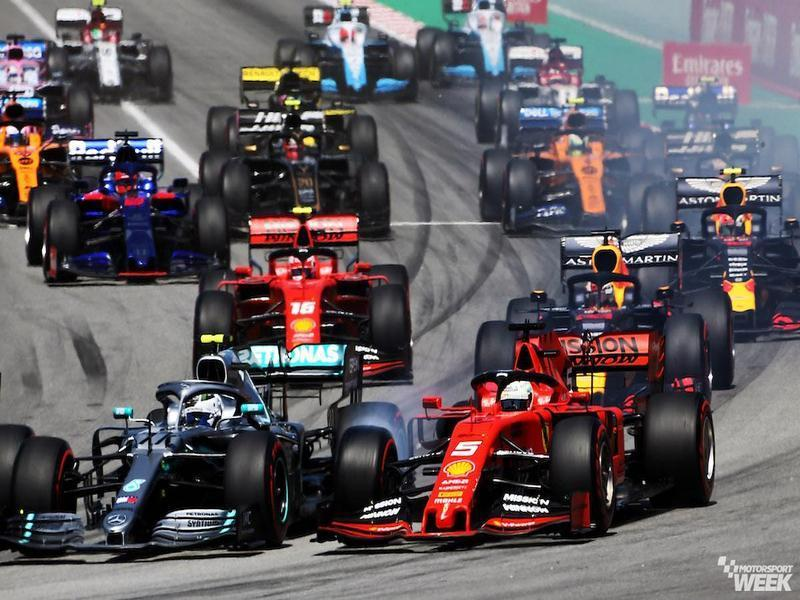f1: (326, 372, 765, 558), (20, 351, 352, 547), (173, 204, 444, 380), (475, 228, 758, 375), (24, 132, 244, 296), (196, 115, 409, 239), (660, 169, 800, 334), (484, 122, 656, 237), (288, 4, 428, 105), (427, 1, 547, 89)
